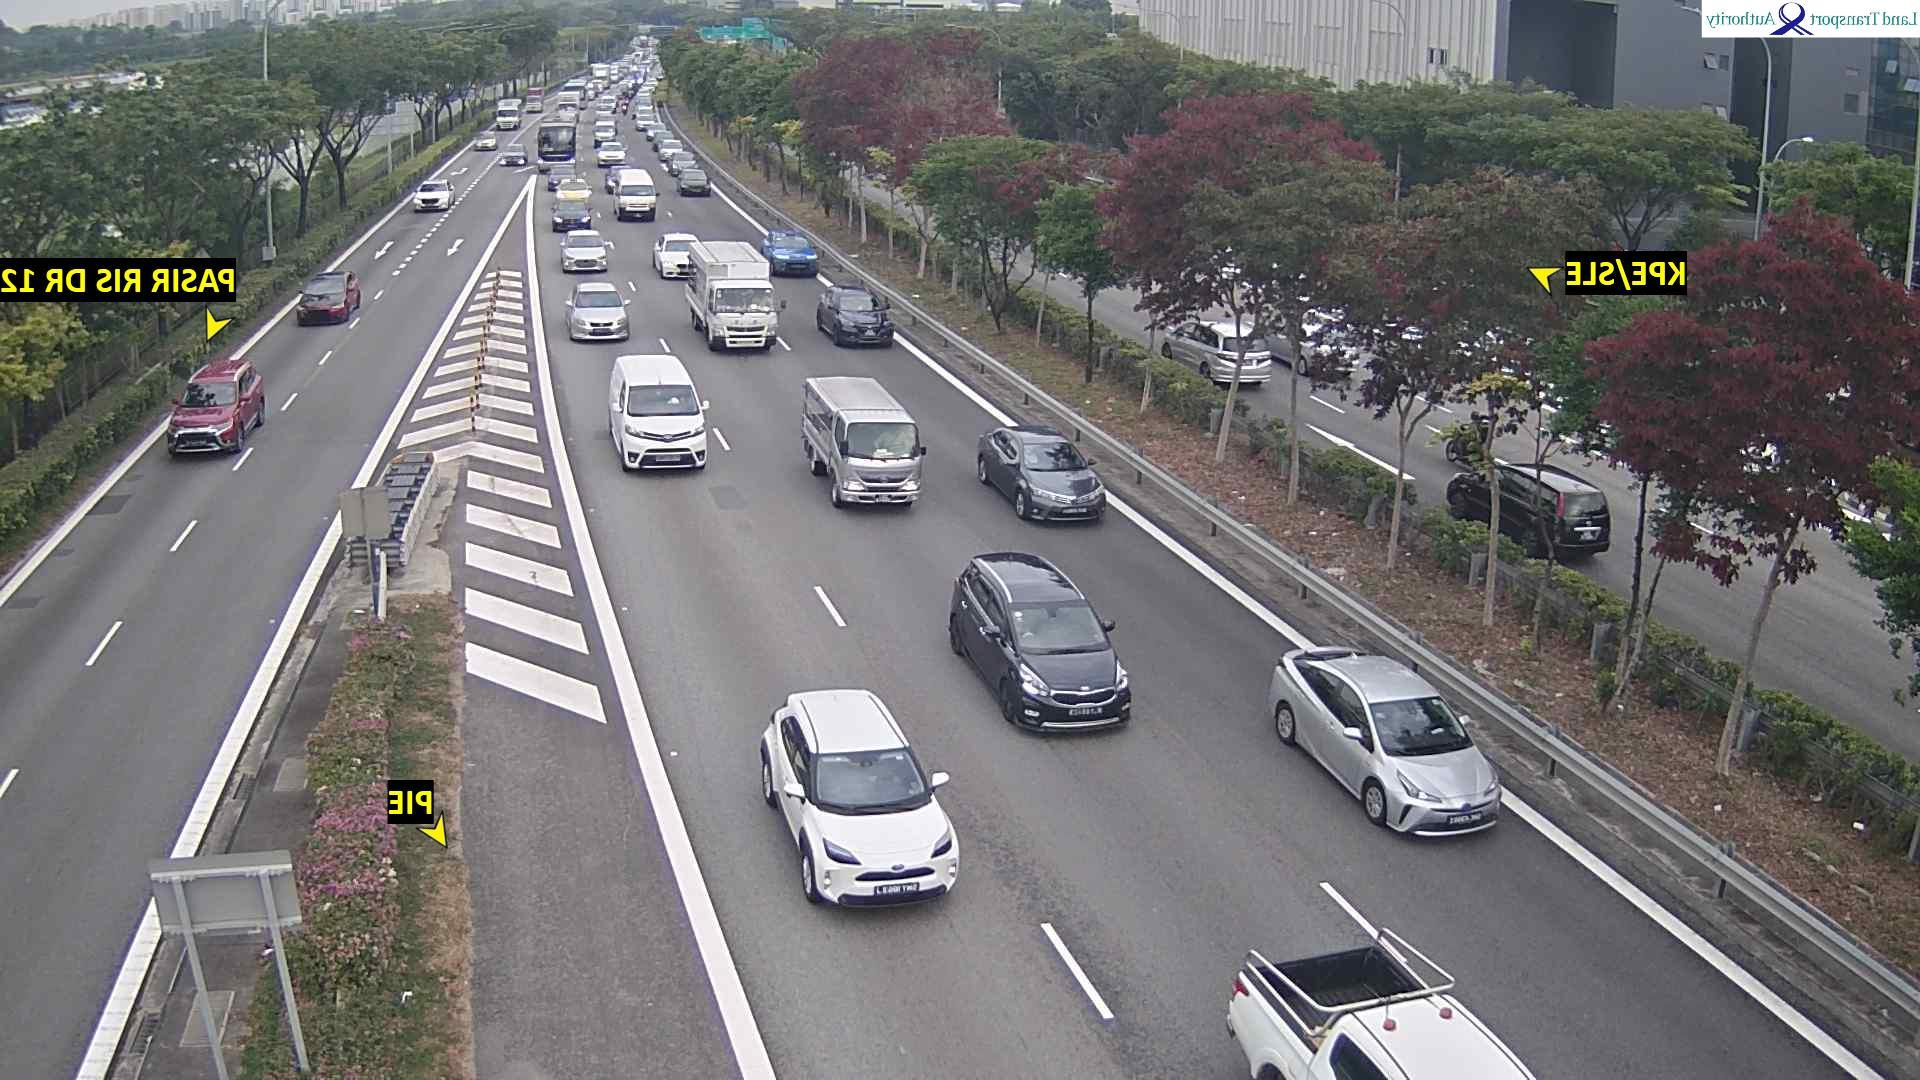bus: (537, 120, 579, 167)
cars: (1226, 880, 1538, 1077), (1269, 644, 1503, 839), (760, 686, 961, 909), (949, 549, 1134, 735), (1447, 458, 1611, 560), (800, 375, 927, 508), (977, 425, 1108, 524), (608, 349, 711, 472), (684, 237, 782, 351), (167, 356, 266, 456), (1160, 316, 1274, 390), (1271, 305, 1364, 377), (816, 281, 895, 347), (564, 280, 632, 342), (295, 270, 363, 324), (762, 228, 820, 276), (613, 167, 659, 220), (560, 228, 615, 272), (654, 229, 700, 280), (413, 178, 458, 211), (550, 203, 595, 229), (555, 175, 593, 204), (678, 167, 712, 196), (495, 98, 524, 129), (596, 137, 626, 166), (666, 149, 699, 175), (607, 164, 636, 193), (593, 117, 618, 145), (498, 142, 527, 166), (525, 87, 546, 112), (476, 131, 498, 150)
